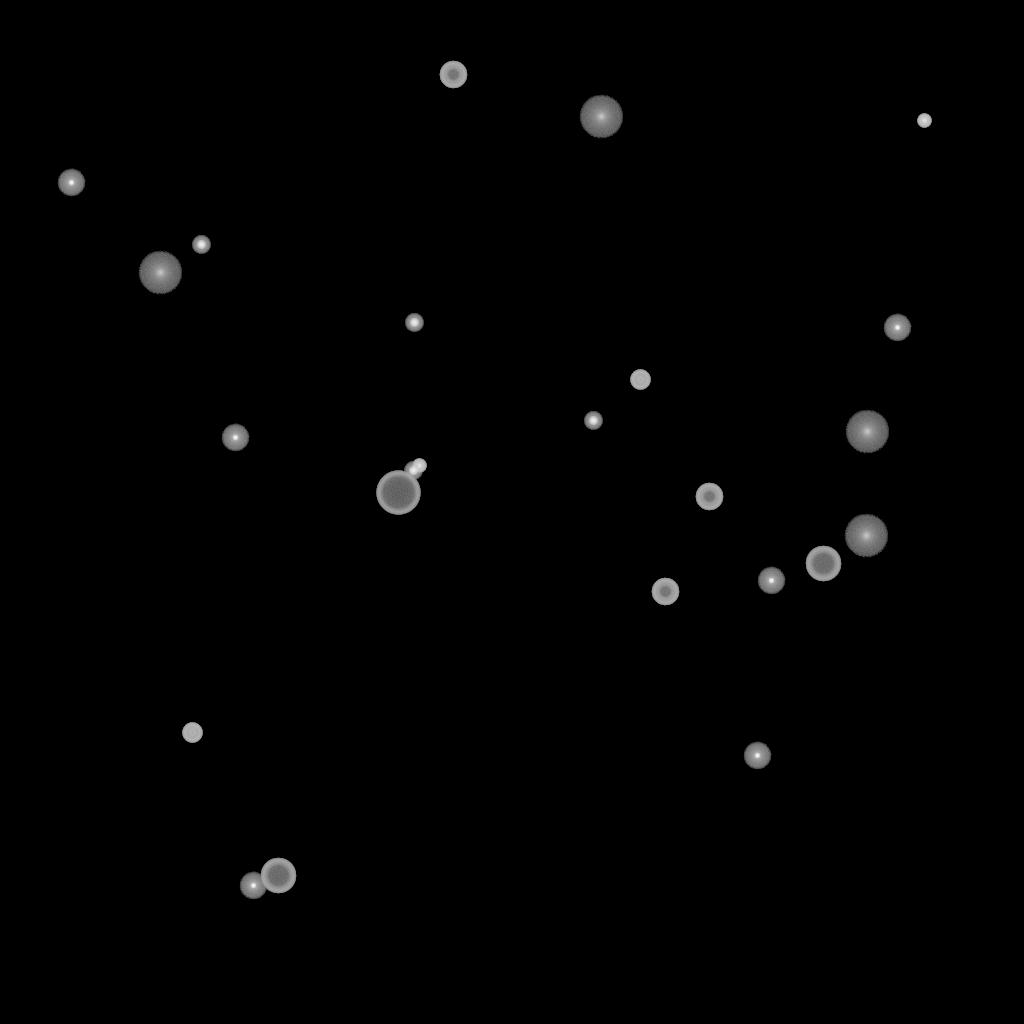depth:-10: (57, 169, 85, 197), (221, 424, 249, 452), (883, 314, 911, 342), (239, 872, 267, 900), (757, 567, 785, 595), (743, 742, 771, 770)
depth:-20: (405, 314, 423, 332), (404, 462, 422, 480), (584, 412, 602, 430), (192, 236, 210, 254)
depth:-30: (917, 114, 931, 128), (412, 459, 426, 473)
depth:-40: (630, 370, 650, 390), (182, 723, 202, 743)
depth:-50: (439, 61, 467, 89), (695, 483, 723, 511), (651, 578, 679, 606)
depth:-60: (260, 858, 296, 894), (805, 546, 841, 582)
depth:-70: (376, 471, 420, 515)
depth:10: (579, 95, 623, 139), (844, 514, 888, 558), (845, 410, 889, 454), (138, 251, 182, 295)
